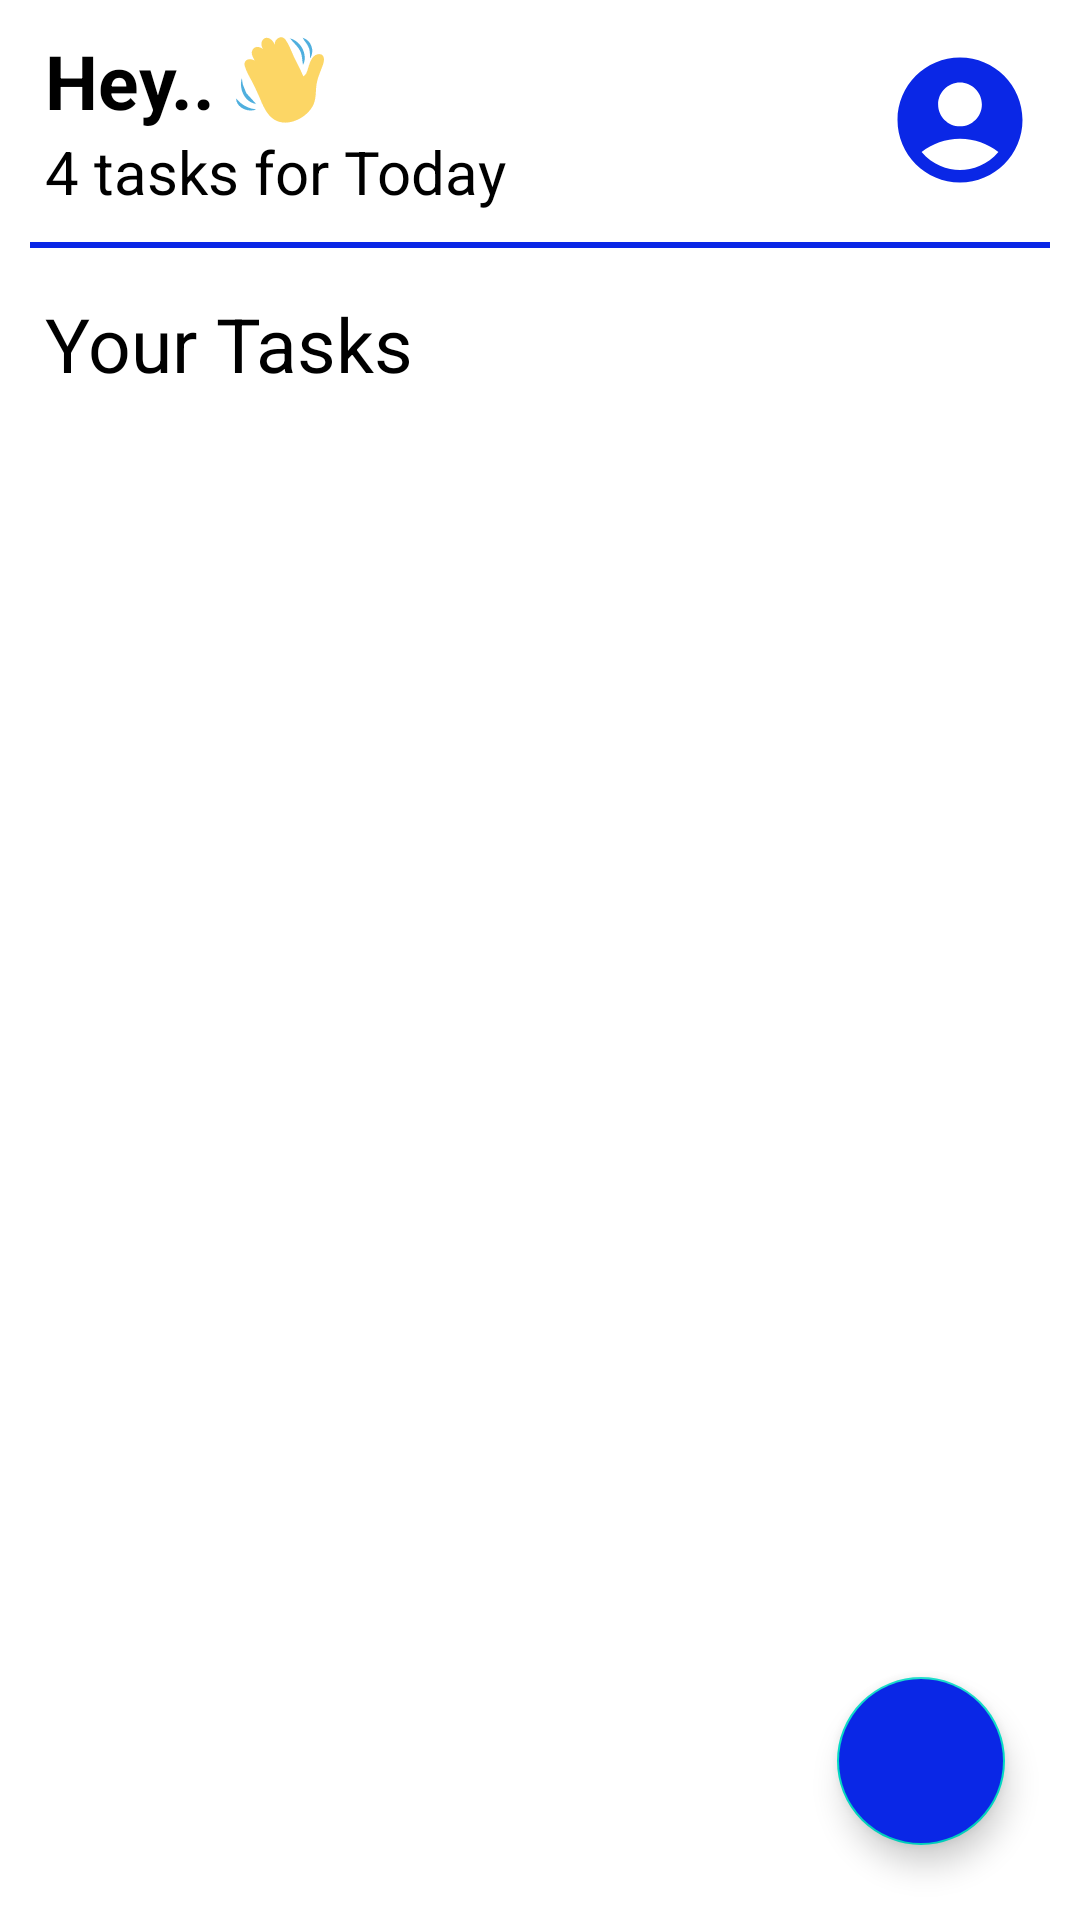

Where to tap for icons on this 1080×1920 app screen, as [x,y]:
account: [960,120]
